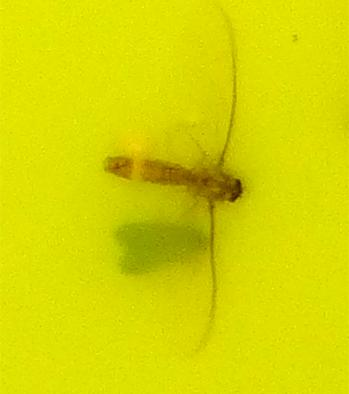Ephemeroptera: (100, 100, 249, 294)
